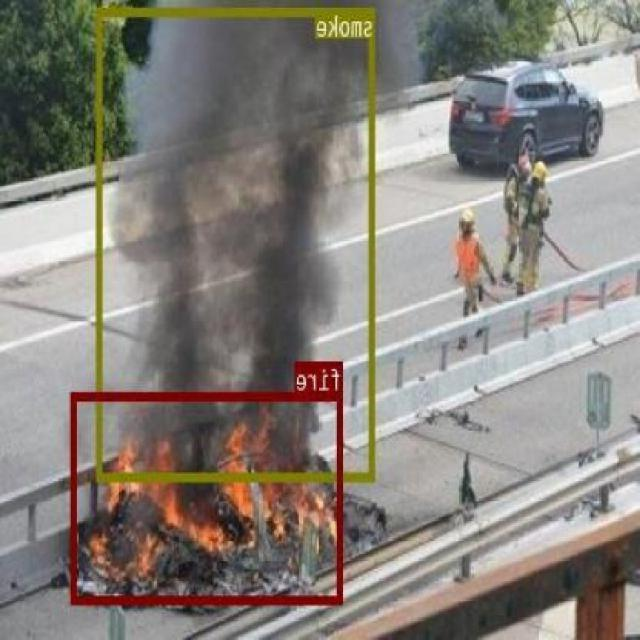Fire: (62, 408, 375, 604)
Smoke: (116, 0, 406, 517)
